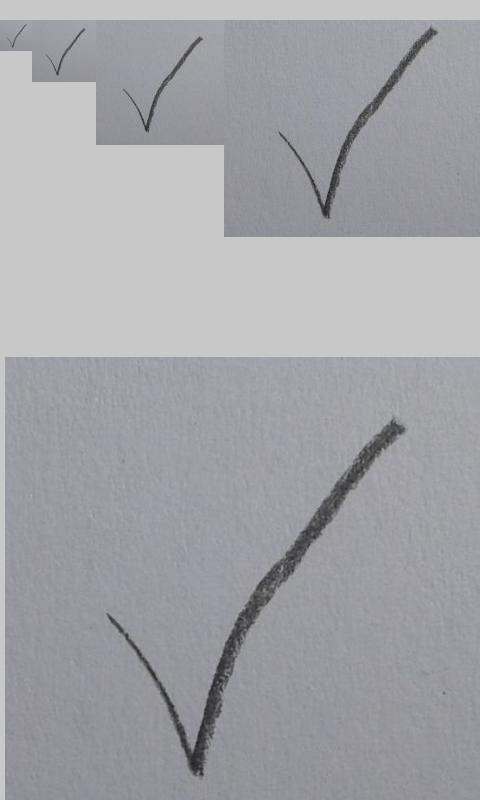check_box: (107, 420, 407, 775), (278, 26, 436, 219), (123, 37, 202, 133), (45, 28, 85, 76), (7, 24, 27, 48)
